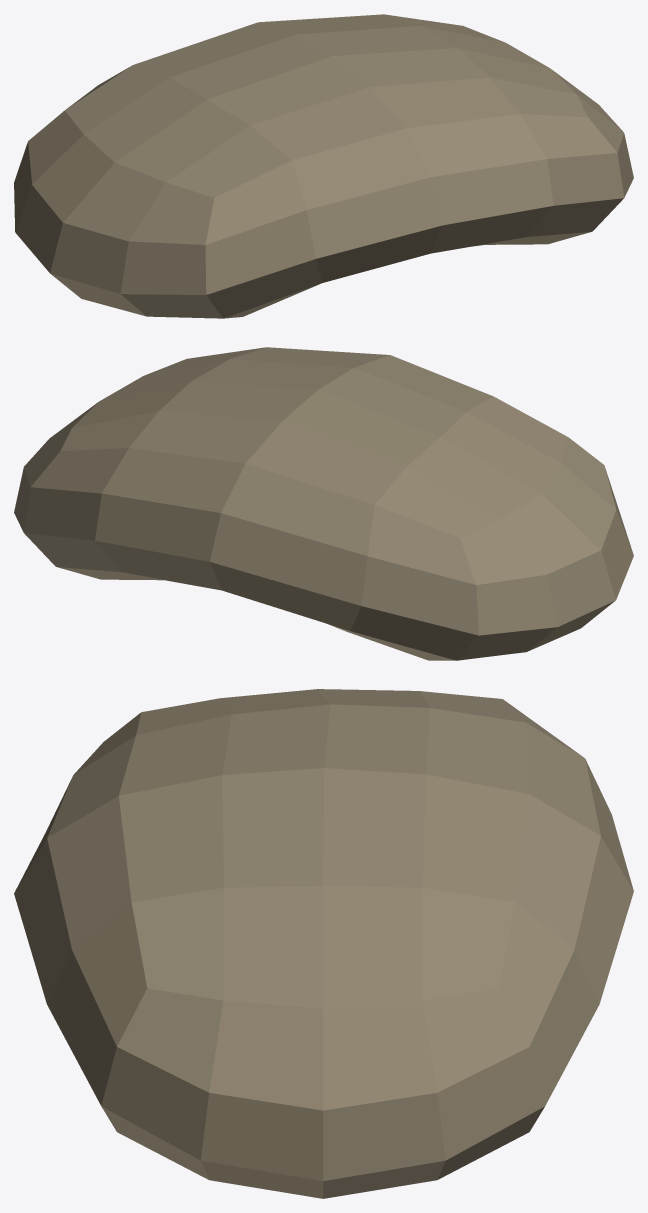
Rendered from SandBag3.fbx.
3 views of the same model, one above another, from view 1: azimuth 30°, elevation 25°; view 2: azimuth 150°, elevation 25°; view 3: azimuth 270°, elevation 25° (orthographic). The views are drawn at different scales.
Visible parts, largest first — view 1: Plane; view 2: Plane; view 3: Plane.
Part boxes in pixels (<box>): Plane: <box>14,14,633,318</box>; Plane: <box>14,347,633,660</box>; Plane: <box>14,689,633,1198</box>.
Bounding box in the file's own units: 1.95 × 0.636 × 1.32.
